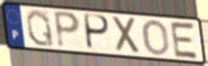E: (169, 21, 200, 61)
O: (142, 18, 171, 57)
P: (52, 9, 83, 51), (84, 13, 112, 52)
Q: (25, 8, 56, 49)
X: (111, 15, 143, 56)
